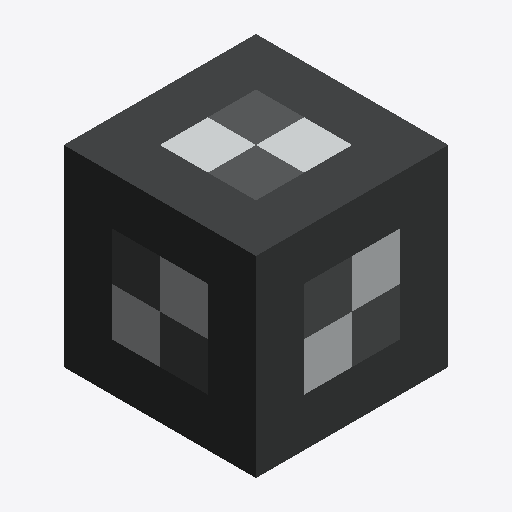
Isometric view (azimuth 45°, elevation 35.3°) of a Minecraft model made of 5 cuboids, textured from the same repository.
Parts seen in each view (by area): element 1, element 4, element 5, element 3, element 2.
Part boxes in pixels (x1,y1,x2,y2): element 1: (64, 117, 303, 477); element 4: (112, 62, 399, 283); element 5: (208, 34, 447, 394); element 3: (304, 229, 399, 394); element 2: (304, 340, 399, 449).
Size of the model in its own units: 4 by 4 by 4.